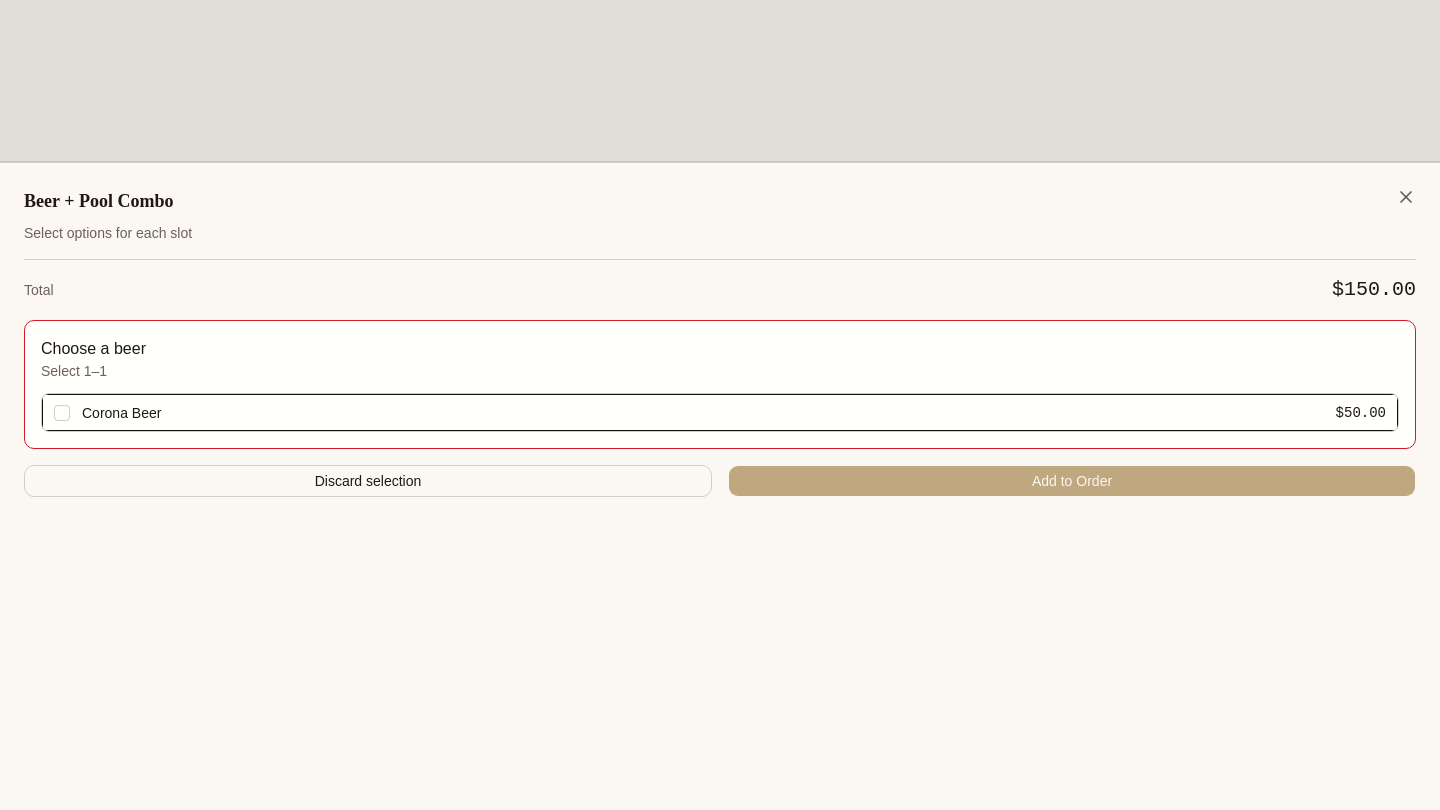
Test: ComboBuilderSheet › Required slot filled: "Add to Order" button is enabled
The width and height of the screenshot is (1440, 810).
What coordinates should you click on to do the following:
click the option "Corona Beer $50.00"
I would click on:
 (122, 412)
Its box is [42,394,1398,431].
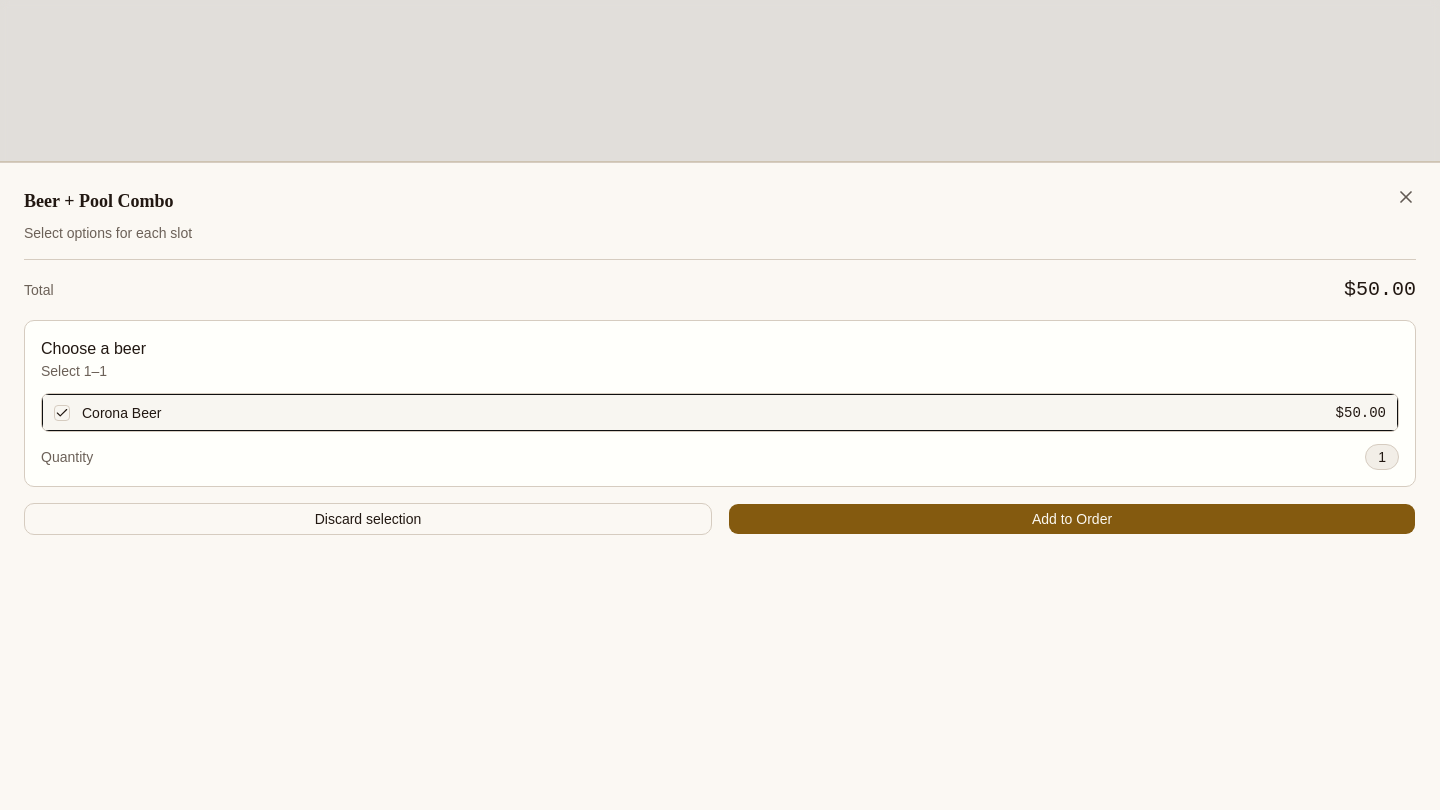
Expected: the button "Add to Order" is enabled, [728,503,1416,535]
